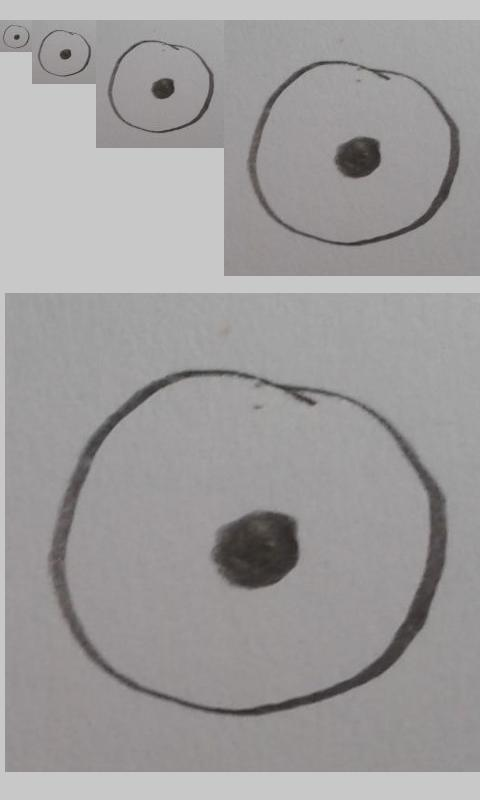radio_button: (46, 366, 449, 720), (247, 59, 460, 248), (108, 39, 215, 134), (37, 29, 92, 78), (2, 23, 30, 49)
